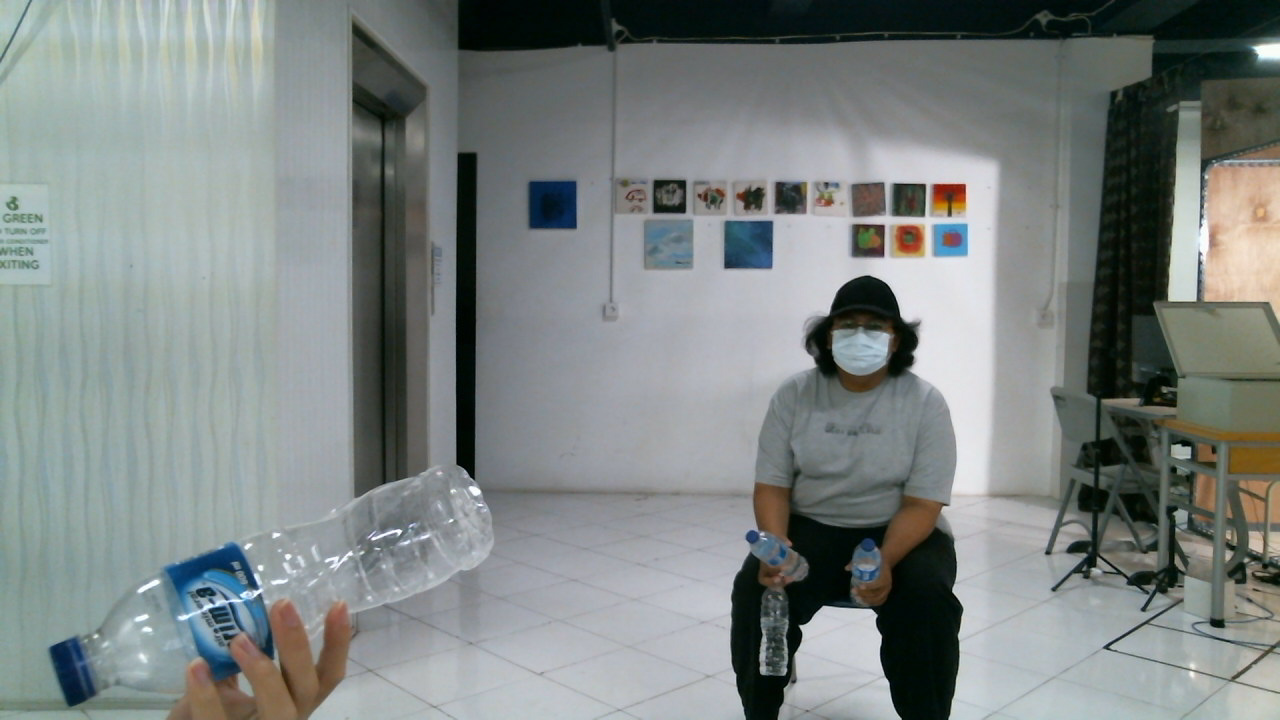Bottle: (60, 454, 498, 713)
